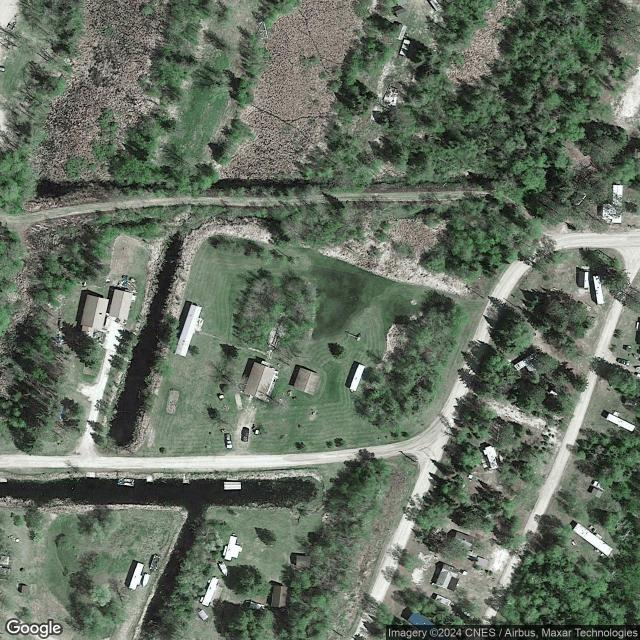Propane: (571, 540, 576, 546)
